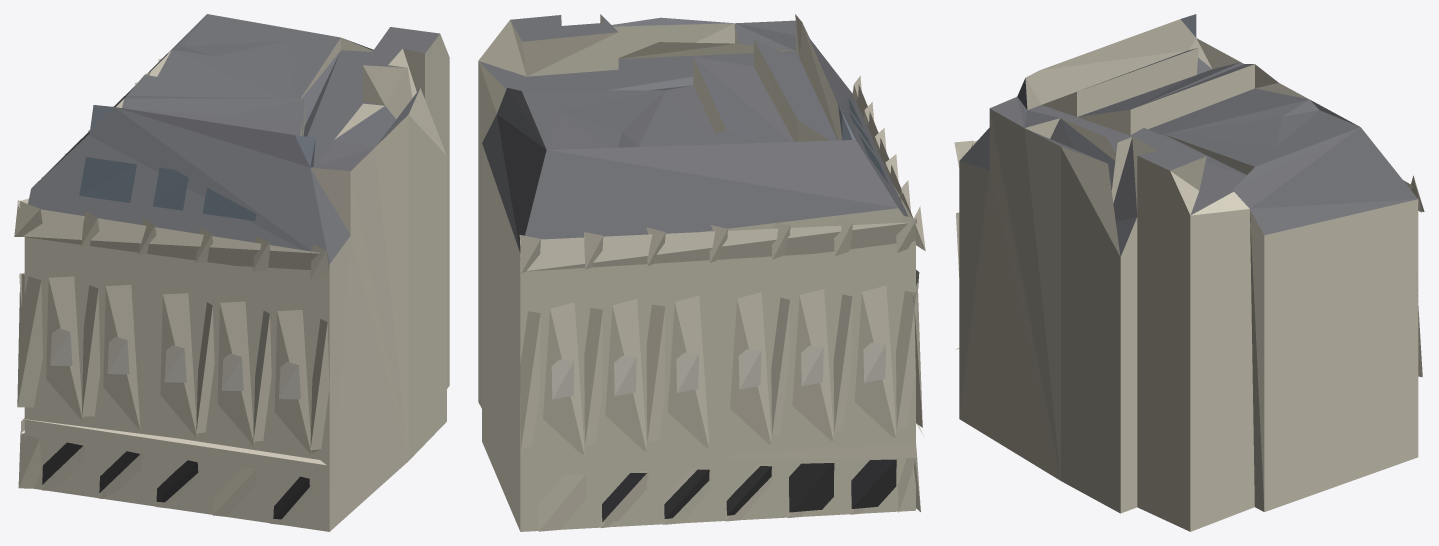
The model's file is maison-de-vries-leidseplein.lod2.glb.
The picture shows the model from 3 angles, left to right: view 1: azimuth 30°, elevation 25°; view 2: azimuth 150°, elevation 25°; view 3: azimuth 270°, elevation 25°; orthographic projection. The views are drawn at different scales.
Parts seen in each view (by area): view 1: lod2; view 2: lod2; view 3: lod2.
Boxes of the visible parts, x1,y1,x2,y2 form: lod2: [14, 14, 449, 531]; lod2: [478, 14, 925, 531]; lod2: [954, 14, 1424, 531].
Size of the model in its own units: 31.42 by 25.36 by 30.65.
